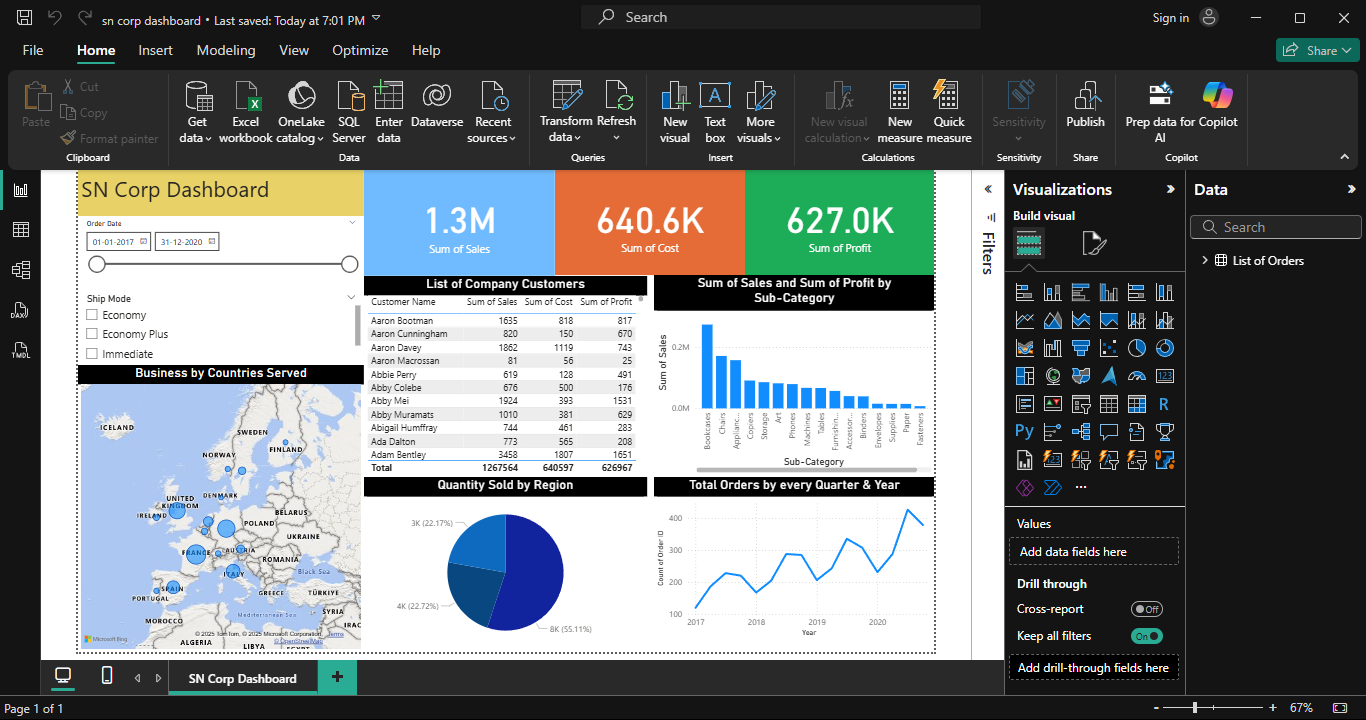

The dashboard page shown, as its layout file describes it:
{"tool":"powerbi","page":{"name":"SN Corp Dashboard","canvas":[1280,720],"ordinal":0},"visuals":[{"type":"card","fields":{"Values":["List of Orders.Sales"]},"box":[427.2,0,285.3,158.3],"z":0},{"type":"card","fields":{"Values":["List of Orders.Cost"]},"box":[712.5,0,283.8,156.8],"z":1000},{"type":"card","fields":{"Values":["List of Orders.Profit"]},"box":[996.3,0,283.8,156.8],"z":2000},{"type":"tableEx","title":"List of Company Customers","fields":{"Values":["List of Orders.Customer Name","List of Orders.Sales","List of Orders.Cost","List of Orders.Profit"]},"box":[427.2,158.3,422.7,300.2],"z":3000},{"type":"clusteredColumnChart","fields":{"Y":["List of Orders.Sales"],"Category":["List of Orders.Sub-Category"]},"box":[860.4,156.8,419.8,300.2],"z":4000},{"type":"pieChart","title":"Quantity Sold by Region","fields":{"Y":["List of Orders.Quantity"],"Category":["List of Orders.Region"]},"box":[427.2,458.6,422.7,261.4],"z":5000},{"type":"lineChart","title":"Total Orders by every Quarter & Year","fields":{"Category":["List of Orders.Order Date.Variation.Date Hierarchy.Year","List of Orders.Order Date.Variation.Date Hierarchy.Quarter"],"Y":["List of Orders.Order ID"]},"box":[860.4,458.6,419.8,243.5],"z":6000},{"type":"textbox","box":[0,0,427.2,68.7],"z":7000},{"type":"slicer","fields":{"Values":["List of Orders.Order Date"]},"box":[0,68.7,427.2,110.5],"z":8000},{"type":"slicer","fields":{"Values":["List of Orders.Ship Mode"]},"box":[0,179.3,427.2,112],"z":9000},{"type":"map","title":"Business by Countries Served","fields":{"Category":["List of Orders.Country"],"Size":["List of Orders.Quantity"]},"box":[0,291.3,427.2,428.7],"z":10000}]}

Visuals, with their boxes on the page's 1280x720 design canvas (x1, y1, x2, y2). These are canvas units, not pixel positions in the 1366x720 screenshot, which may show the page scaled, cropped or inside an application window:
card - List of Orders.Sales: (left=427, top=0, right=712, bottom=158)
card - List of Orders.Cost: (left=712, top=0, right=996, bottom=157)
card - List of Orders.Profit: (left=996, top=0, right=1280, bottom=157)
"List of Company Customers" tableEx: (left=427, top=158, right=850, bottom=458)
clusteredColumnChart - List of Orders.Sales x List of Orders.Sub-Category: (left=860, top=157, right=1280, bottom=457)
"Quantity Sold by Region" pieChart: (left=427, top=459, right=850, bottom=720)
"Total Orders by every Quarter & Year" lineChart: (left=860, top=459, right=1280, bottom=702)
textbox: (left=0, top=0, right=427, bottom=69)
slicer - List of Orders.Order Date: (left=0, top=69, right=427, bottom=179)
slicer - List of Orders.Ship Mode: (left=0, top=179, right=427, bottom=291)
"Business by Countries Served" map: (left=0, top=291, right=427, bottom=720)
